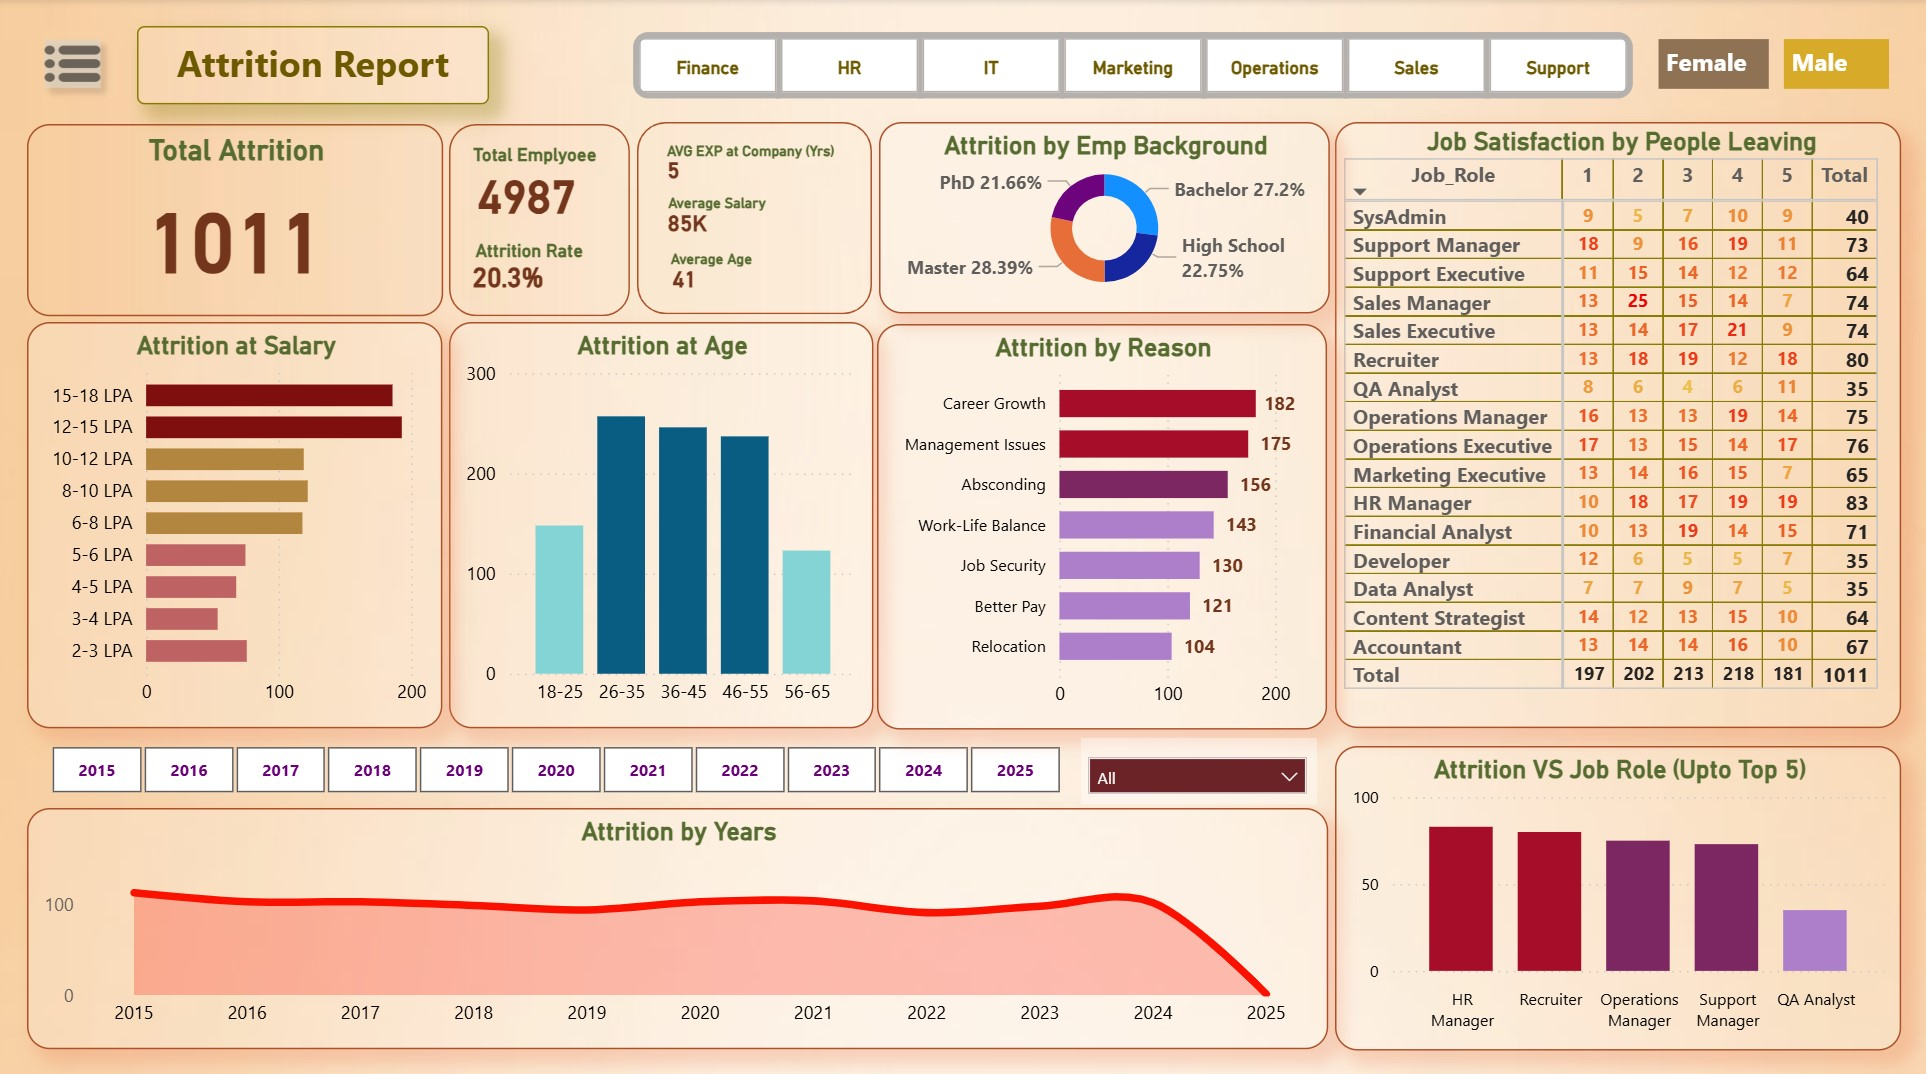

The dashboard page shown, as its layout file describes it:
{"tool":"powerbi","page":{"name":"Attrition Report","canvas":[1280,720],"ordinal":1},"visuals":[{"type":"group","id":"g1","title":"Attrition Report","box":[15.8,14.5,1247.1,683.2],"z":0},{"type":"treemap","title":"Gender","fields":{"Group":["Dataset 5000 Rows - Sheet1.Gender"],"Values":["Sum(Dataset 5000 Rows - Sheet1.Attrition_Count)"]},"box":[1096.5,17.4,162.9,55],"z":0,"group":"g1"},{"type":"card","title":"Total Emplyoee","fields":{"Values":["Dataset 5000 Rows - Sheet1.Total_Emp_Count"]},"box":[300.2,97.3,102.8,57.1],"z":1000,"group":"g1"},{"type":"card","title":"Total Attrition","fields":{"Values":["Sum(Dataset 5000 Rows - Sheet1.Attrition_Count)"]},"box":[19.1,82.8,275.8,127.5],"z":2000,"group":"g1"},{"type":"card","title":"Attrition Rate","fields":{"Values":["Dataset 5000 Rows - Sheet1.Attrition_rate"]},"box":[284.3,160.1,109.8,42.1],"z":3000,"group":"g1"},{"type":"card","title":"Average Age","fields":{"Values":["Avg(Dataset 5000 Rows - Sheet1.Age)"]},"box":[406.2,167.2,99.8,34.6],"z":4000,"group":"g1"},{"type":"actionButton","title":"Menu Open Button","box":[22.3,18.1,55,50],"z":5000,"group":"g1"},{"type":"card","title":"Average Salary","fields":{"Values":["Avg(Dataset 5000 Rows - Sheet1.Monthly_Salary)"]},"box":[399.9,129.9,114.4,34.6],"z":6000,"group":"g1"},{"type":"card","title":"AVG EXP at Company (Yrs)","fields":{"Values":["Avg(Dataset 5000 Rows - Sheet1.Exp_at_cur_Com)"]},"box":[336.4,95.2,223.3,33.7],"z":7000,"group":"g1"},{"type":"pivotTable","title":"Job Satisfaction by People Leaving","fields":{"Columns":["Dataset 5000 Rows - Sheet1.Job_Satisfaction"],"Values":["Sum(Dataset 5000 Rows - Sheet1.Attrition_Count)"],"Rows":["Dataset 5000 Rows - Sheet1.Job_Role"]},"box":[887.2,82,375.7,402],"z":8000,"group":"g1"},{"type":"areaChart","title":"Attrition by Years","fields":{"Y":["Sum(Dataset 5000 Rows - Sheet1.Attrition_Count)"],"Category":["Dataset 5000 Rows - Sheet1.Joining_Date.Variation.Date Hierarchy.Year"]},"box":[19.6,537.5,863,160],"z":9000,"group":"g1"},{"type":"clusteredColumnChart","title":"Attrition at Age","fields":{"Category":["Dataset 5000 Rows - Sheet1.Age_Group"],"Y":["Sum(Dataset 5000 Rows - Sheet1.Attrition_Count)"]},"box":[299.4,215.2,281.4,269.3],"z":10000,"group":"g1"},{"type":"barChart","title":"Attrition at Salary","fields":{"Y":["Sum(Dataset 5000 Rows - Sheet1.Attrition_Count)"],"Category":["Dataset 5000 Rows - Sheet1.Salary_Group"]},"box":[20.1,215.2,275.7,269.3],"z":11000,"group":"g1"},{"type":"clusteredColumnChart","title":"Attrition VS Job Role (Upto Top 5)","fields":{"Category":["Dataset 5000 Rows - Sheet1.Job_Role"],"Y":["Sum(Dataset 5000 Rows - Sheet1.Attrition_Count)"]},"box":[887.2,495.6,375.7,202.1],"z":12000,"group":"g1"},{"type":"donutChart","title":"Attrition by Emp Background","fields":{"Y":["Sum(Dataset 5000 Rows - Sheet1.Attrition_Count)"],"Series":["Dataset 5000 Rows - Sheet1.Last_Qualification"]},"box":[584.2,82.4,298.9,126.8],"z":13000,"group":"g1"},{"type":"textbox","title":"Page Name","box":[92.1,18.7,233.3,52.2],"z":14000,"group":"g1"},{"type":"slicer","title":"Filter by Years","fields":{"Values":["Dataset 5000 Rows - Sheet1.Joining_Date.Variation.Date Hierarchy.Year"]},"box":[15.8,486.8,710.1,50.1],"z":15000,"group":"g1"},{"type":"advancedSlicerVisual","title":"Filter Dept.","fields":{"Values":["Dataset 5000 Rows - Sheet1.Department"]},"box":[401.7,14.5,705.9,60.4],"z":16000,"group":"g1"},{"type":"shape","title":"Shape","box":[424.1,82,155.8,127.5],"z":16500,"group":"g1"},{"type":"shape","box":[299.1,82.8,120,127.5],"z":16750,"group":"g1"},{"type":"clusteredBarChart","title":"Attrition by Reason","fields":{"Category":["Dataset 5000 Rows - Sheet1.Attrition_Reason"],"Y":["Sum(Dataset 5000 Rows - Sheet1.Attrition_Count)"]},"box":[583.5,216,298.5,269.2],"z":17000,"group":"g1"},{"type":"slicer","title":"Filter by Months","fields":{"Values":["Dataset 5000 Rows - Sheet1.Joining_Date.Variation.Date Hierarchy.Month"]},"box":[718.3,490.3,156.7,44],"z":17500,"group":"g1"}]}

Visuals, with their boxes in screenshot pixels (x1, y1, x2, y2), scaled from the page's 1280x720 canvas onto the 1926x1074 screenshot:
"Attrition Report" group: [x1=24, y1=22, x2=1900, y2=1041]
"Gender" treemap: [x1=1650, y1=26, x2=1895, y2=108]
"Total Emplyoee" card: [x1=452, y1=145, x2=606, y2=230]
"Total Attrition" card: [x1=29, y1=124, x2=444, y2=314]
"Attrition Rate" card: [x1=428, y1=239, x2=593, y2=302]
"Average Age" card: [x1=611, y1=249, x2=761, y2=301]
"Menu Open Button" actionButton: [x1=34, y1=27, x2=116, y2=102]
"Average Salary" card: [x1=602, y1=194, x2=774, y2=245]
"AVG EXP at Company (Yrs)" card: [x1=506, y1=142, x2=842, y2=192]
"Job Satisfaction by People Leaving" pivotTable: [x1=1335, y1=122, x2=1900, y2=722]
"Attrition by Years" areaChart: [x1=29, y1=802, x2=1328, y2=1040]
"Attrition at Age" clusteredColumnChart: [x1=451, y1=321, x2=874, y2=723]
"Attrition at Salary" barChart: [x1=30, y1=321, x2=445, y2=723]
"Attrition VS Job Role (Upto Top 5)" clusteredColumnChart: [x1=1335, y1=739, x2=1900, y2=1041]
"Attrition by Emp Background" donutChart: [x1=879, y1=123, x2=1329, y2=312]
"Page Name" textbox: [x1=139, y1=28, x2=490, y2=106]
"Filter by Years" slicer: [x1=24, y1=726, x2=1092, y2=801]
"Filter Dept." advancedSlicerVisual: [x1=604, y1=22, x2=1667, y2=112]
"Shape" shape: [x1=638, y1=122, x2=873, y2=313]
shape: [x1=450, y1=124, x2=631, y2=314]
"Attrition by Reason" clusteredBarChart: [x1=878, y1=322, x2=1327, y2=724]
"Filter by Months" slicer: [x1=1081, y1=731, x2=1317, y2=797]
